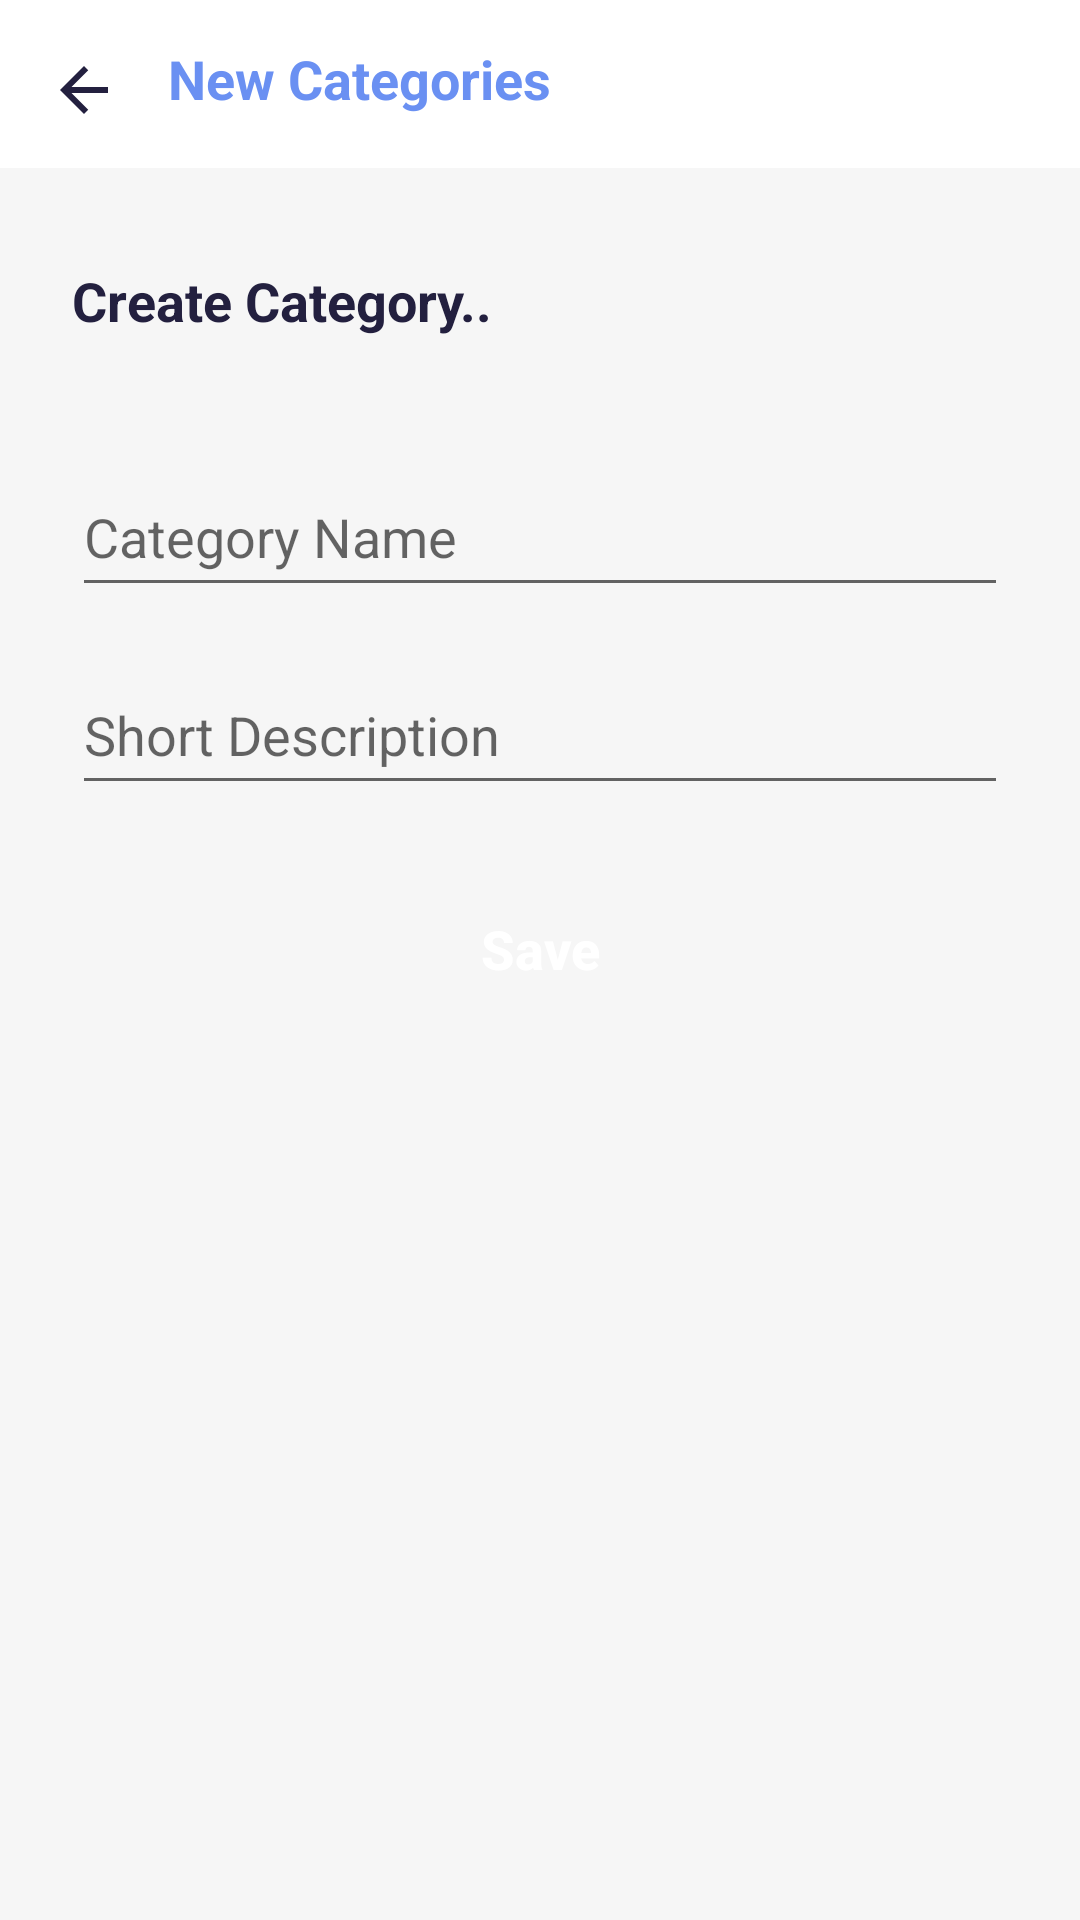

Locate icon controls on the screen. Image size 1080×1920, boxes as bbox=[x1, y1, x2, y2].
arrow back: bbox=[60, 66, 108, 114]
